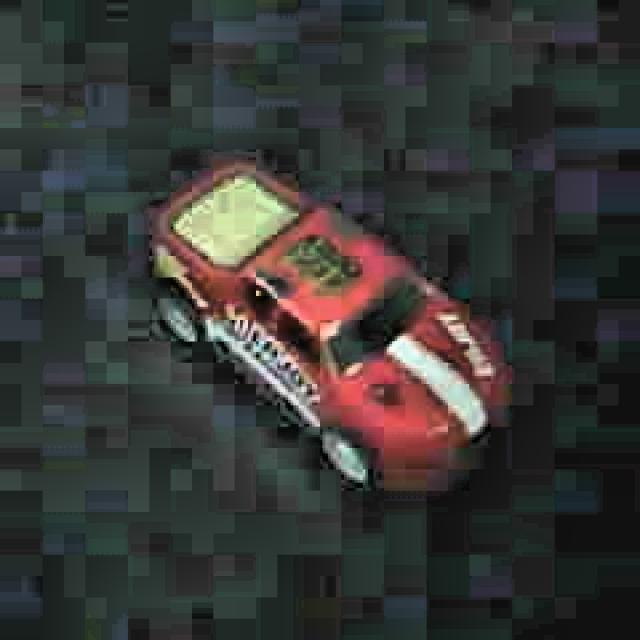car: (147, 156, 508, 493)
